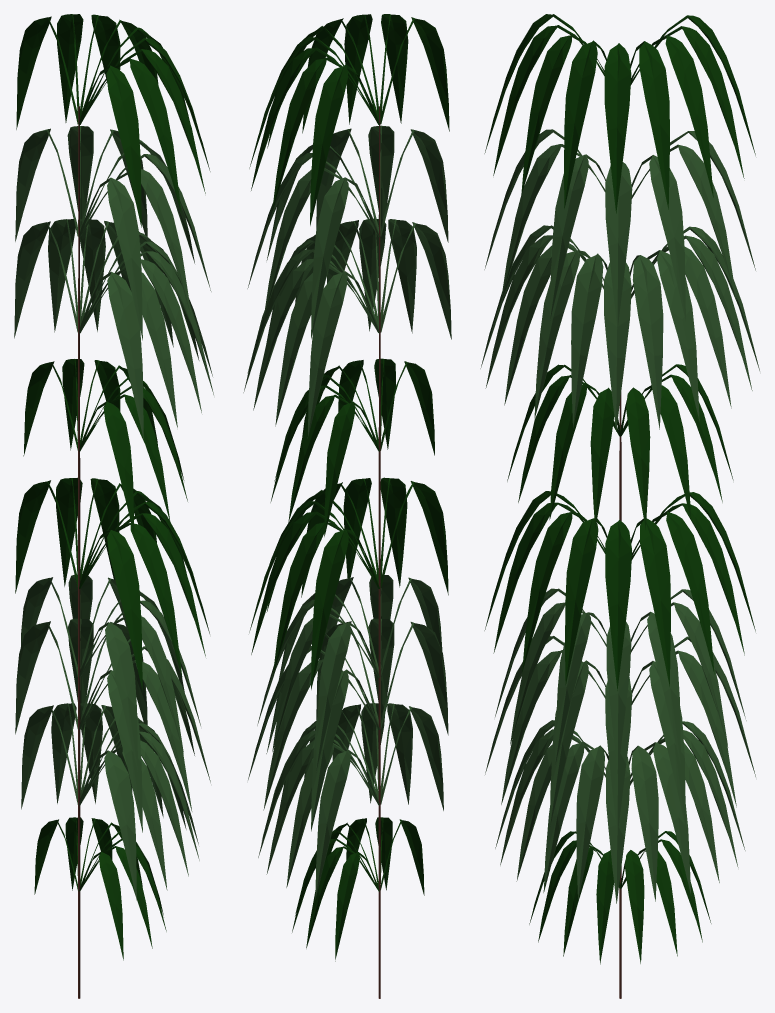
The model's file is plant1_half.fbx.
3 views of the same model, side by side, from view 1: azimuth 30°, elevation 25°; view 2: azimuth 150°, elevation 25°; view 3: azimuth 270°, elevation 25° (orthographic). The views are drawn at different scales.
Parts seen in each view (by area): view 1: Circle.062; view 2: Circle.062; view 3: Circle.062.
Boxes of the visible parts, x1=… form: Circle.062: x1=14, y1=14, x2=213, y2=998; Circle.062: x1=243, y1=14, x2=451, y2=998; Circle.062: x1=480, y1=14, x2=759, y2=998.
Bounding box in the file's own units: 32.63 × 226 × 58.45.
